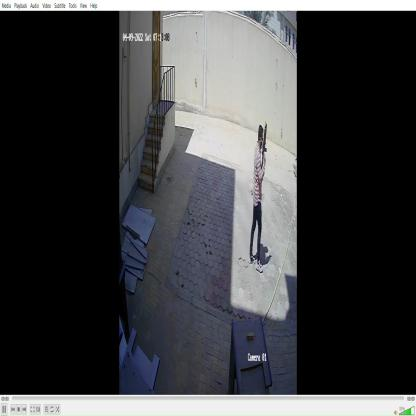handgun: (260, 120, 274, 172)
